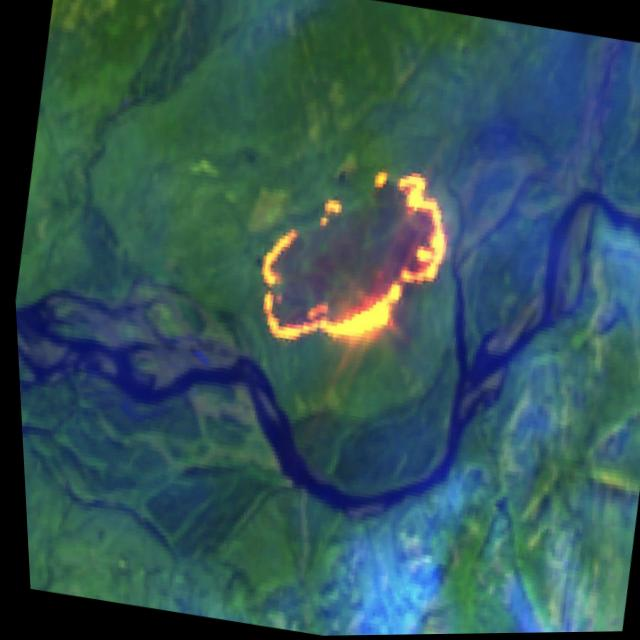fire: (232, 132, 468, 376)
